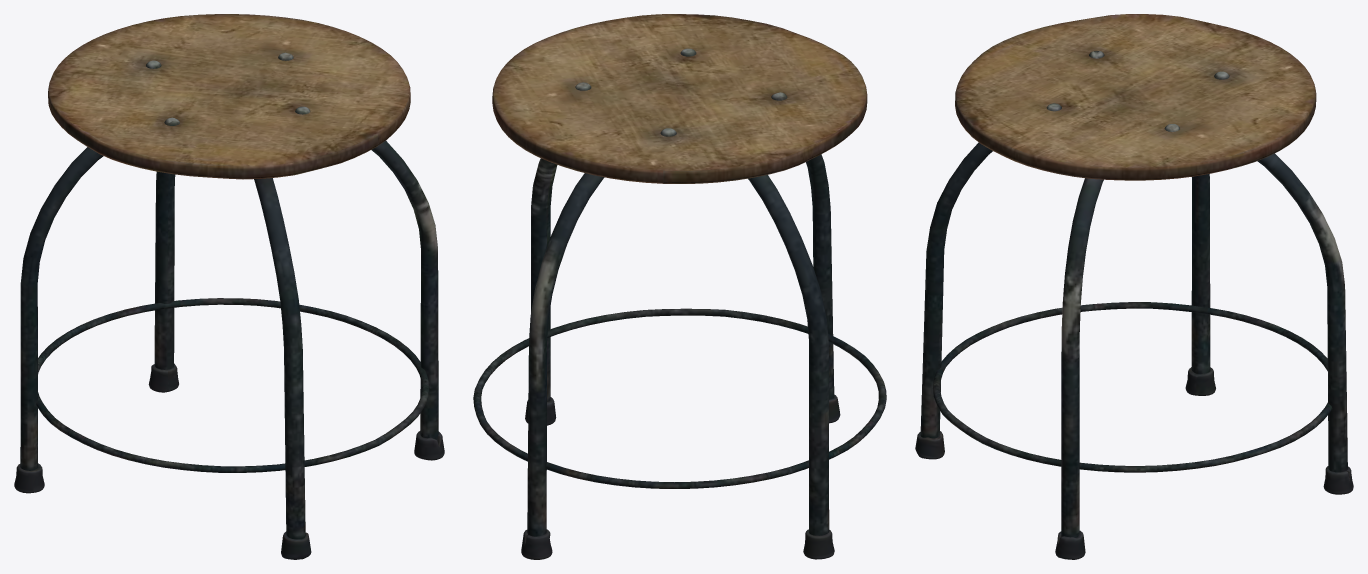
Rendered from stool_2.glb.
The picture shows the model from 3 angles, left to right: view 1: azimuth 30°, elevation 25°; view 2: azimuth 150°, elevation 25°; view 3: azimuth 270°, elevation 25°; orthographic projection. The views are drawn at different scales.
Visible parts, largest first — view 1: metal_stool_02; view 2: metal_stool_02; view 3: metal_stool_02.
Part boxes in pixels (x1,y1,x2,y2): metal_stool_02: [14, 14, 444, 559]; metal_stool_02: [473, 14, 886, 559]; metal_stool_02: [915, 14, 1353, 559].
Size of the model in its own units: 0.4481 by 0.4581 by 0.4731.
Materials: 1 (1 with a texture image).
